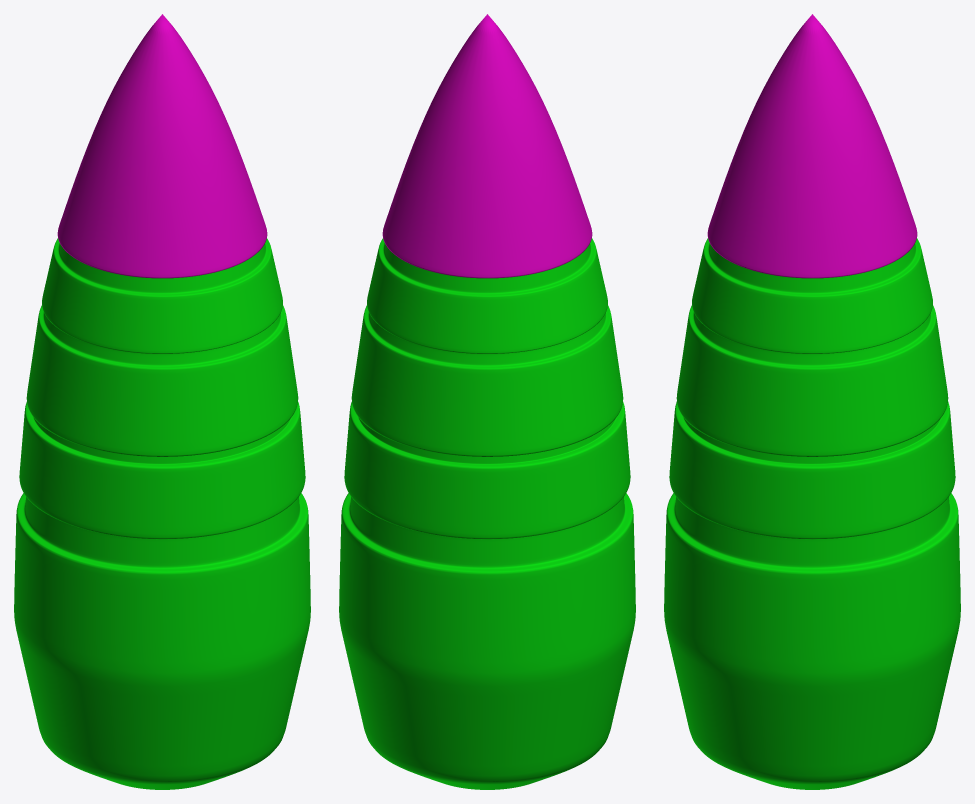
File: Head.fbx
3 views of the same model, side by side, from view 1: azimuth 30°, elevation 25°; view 2: azimuth 150°, elevation 25°; view 3: azimuth 270°, elevation 25° (orthographic).
Parts seen in each view (by area): view 1: Sphere; view 2: Sphere; view 3: Sphere.
Part boxes in pixels (x1,y1,x2,y2): Sphere: (14, 14, 310, 789); Sphere: (339, 14, 635, 789); Sphere: (664, 14, 960, 789).
Size of the model in its own units: 388 by 1080 by 388.
